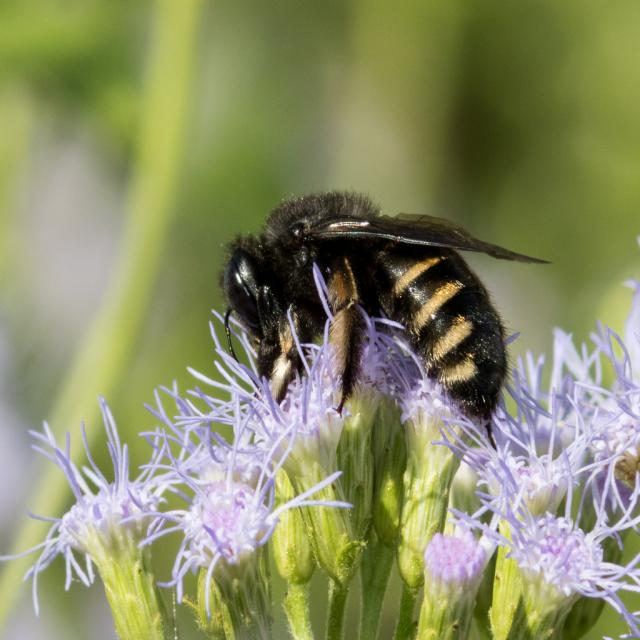bee: (213, 187, 554, 452)
